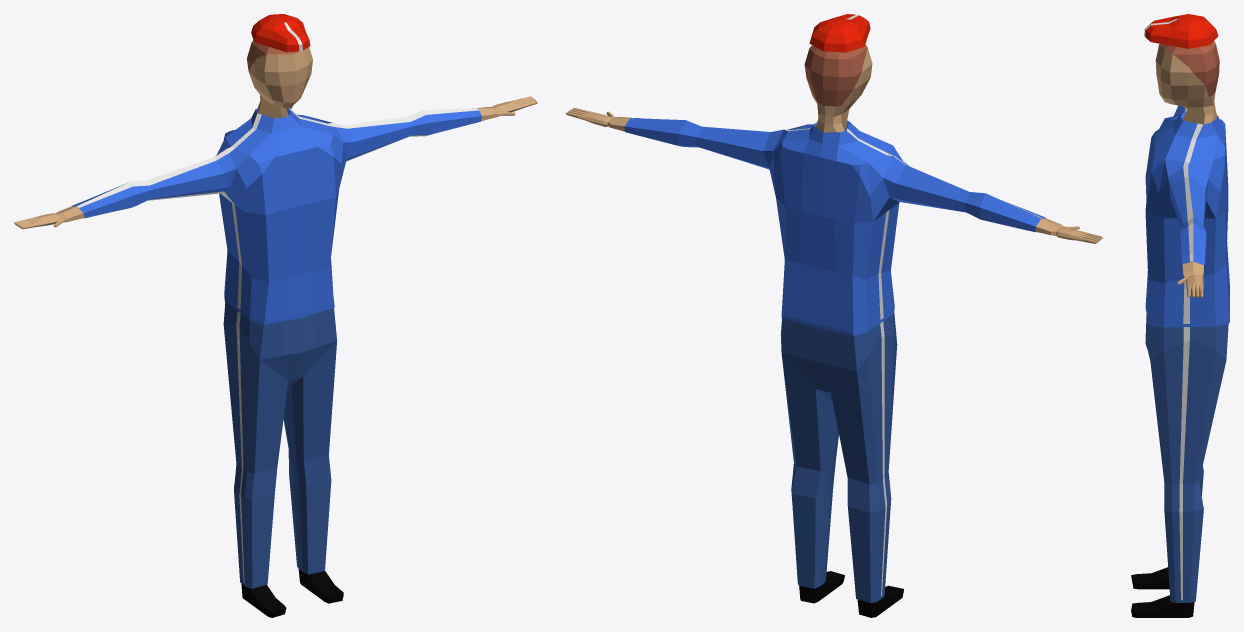
Rendered from gopnik (4).fbx.
3 renders of one model, left to right at view 1: azimuth 30°, elevation 25°; view 2: azimuth 150°, elevation 25°; view 3: azimuth 270°, elevation 25°, orthographic. The views are drawn at different scales.
Visible parts, largest first — view 1: Cube, Sphere; view 2: Cube, Sphere; view 3: Cube, Sphere.
Boxes of the visible parts, x1=… form: Cube: x1=14, y1=40, x2=537, y2=617; Sphere: x1=251, y1=14, x2=310, y2=52; Cube: x1=566, y1=45, x2=1102, y2=617; Sphere: x1=809, y1=14, x2=870, y2=52; Cube: x1=1131, y1=41, x2=1229, y2=617; Sphere: x1=1144, y1=14, x2=1218, y2=48.
Bounding box in the file's own units: 462 × 488 × 75.12.
